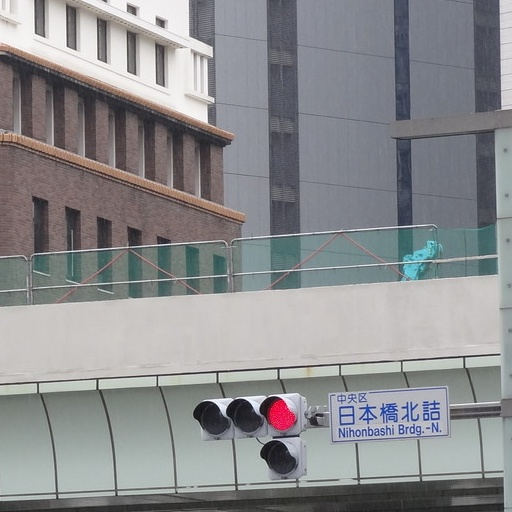Traffic_Signal_Red: (191, 388, 306, 442)
